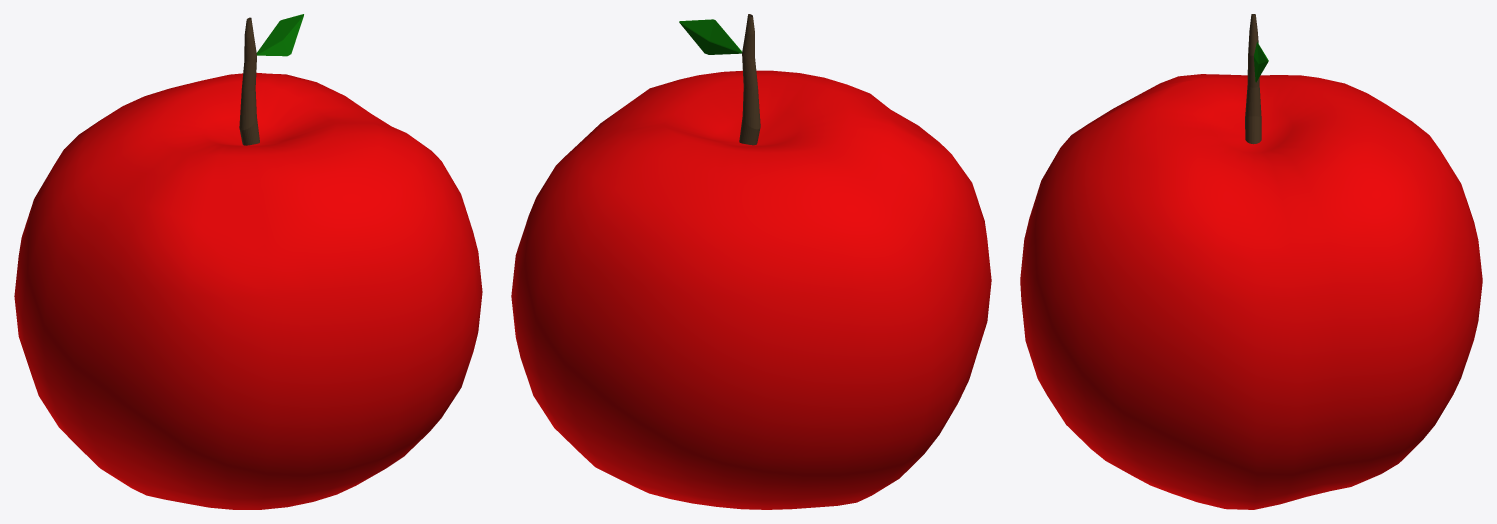
File: Apple.fbx
3 views of the same model, side by side, from view 1: azimuth 30°, elevation 25°; view 2: azimuth 150°, elevation 25°; view 3: azimuth 270°, elevation 25° (orthographic). The views are drawn at different scales.
Visible parts, largest first — view 1: Apple; view 2: Apple; view 3: Apple.
Boxes of the visible parts, box(x1,y1,x2,y2) form: Apple: box(14, 14, 482, 509); Apple: box(511, 14, 991, 509); Apple: box(1020, 14, 1482, 509).
Size of the model in its own units: 19.34 by 20.58 by 19.04.
